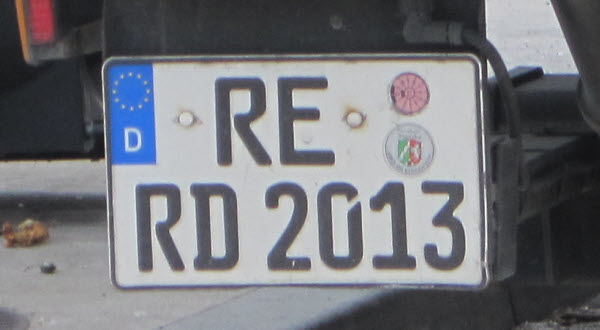license_plate: (101, 54, 489, 289)
